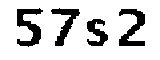2: (116, 4, 151, 51)
5: (11, 3, 44, 51)
7: (47, 7, 80, 51)
s: (85, 18, 110, 50)
